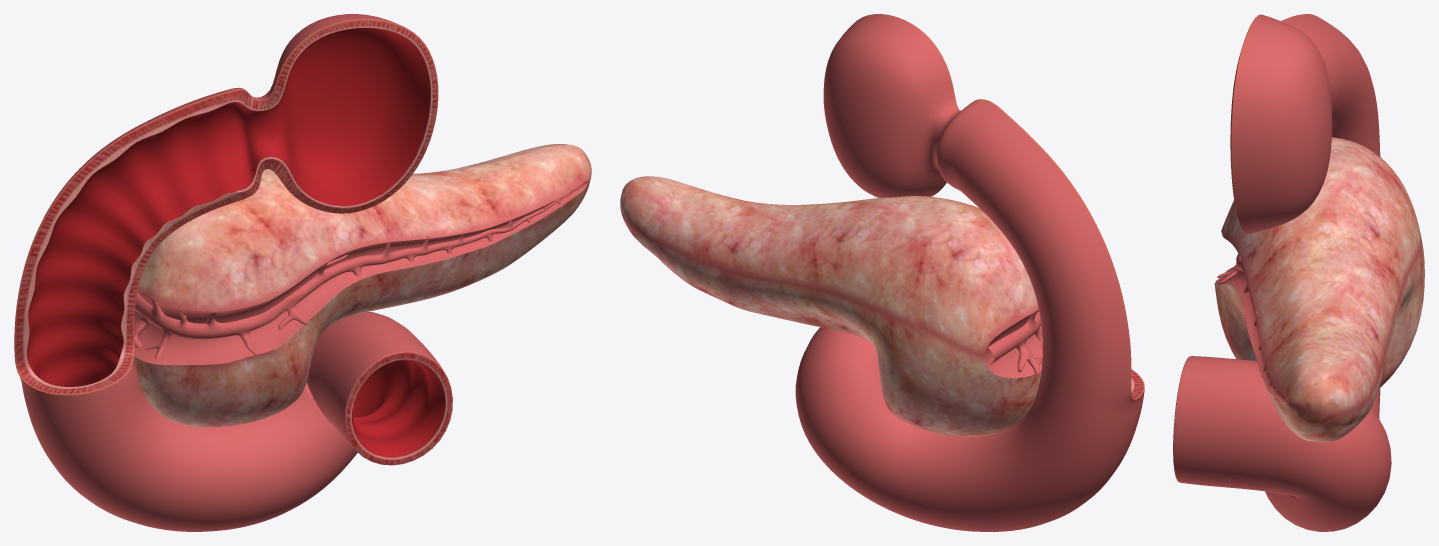
3 views of the same model, side by side, from view 1: azimuth 30°, elevation 25°; view 2: azimuth 150°, elevation 25°; view 3: azimuth 270°, elevation 25° (orthographic). The views are drawn at different scales.
Parts seen in each view (by area): view 1: pCube3, polySurface1, sweep1; view 2: pCube3, polySurface1, sweep1; view 3: pCube3, polySurface1, sweep1.
Part boxes in pixels (box(x1,y1,x2,y2)): pCube3: box(14, 14, 452, 531); polySurface1: box(134, 144, 591, 427); sweep1: box(134, 182, 588, 359); pCube3: box(795, 14, 1144, 531); polySurface1: box(620, 176, 1042, 436); sweep1: box(988, 310, 1042, 375); pCube3: box(1173, 14, 1391, 531); polySurface1: box(1214, 137, 1424, 442); sweep1: box(1217, 253, 1289, 403).
Bounding box in the file's own units: 0.1967 × 0.1682 × 0.0726.
Materials: 1 (1 with a texture image).
